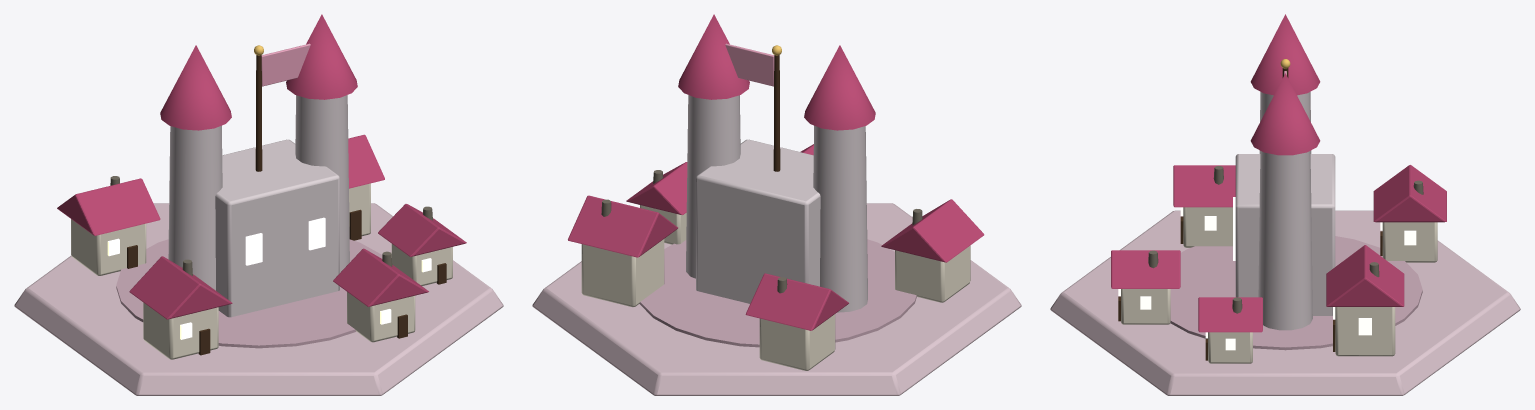
File: district-rival.glb
3 renders of one model, left to right at view 1: azimuth 30°, elevation 25°; view 2: azimuth 150°, elevation 25°; view 3: azimuth 270°, elevation 25°, orthographic. The views are drawn at different scales.
Visible parts, largest first — view 1: district-rival; view 2: district-rival; view 3: district-rival.
Boxes of the visible parts, <box> form: district-rival: <box>14,14,503,395</box>; district-rival: <box>532,14,1021,395</box>; district-rival: <box>1050,14,1520,395</box>.
Size of the model in its own units: 1.64 by 1.18 by 1.89.
